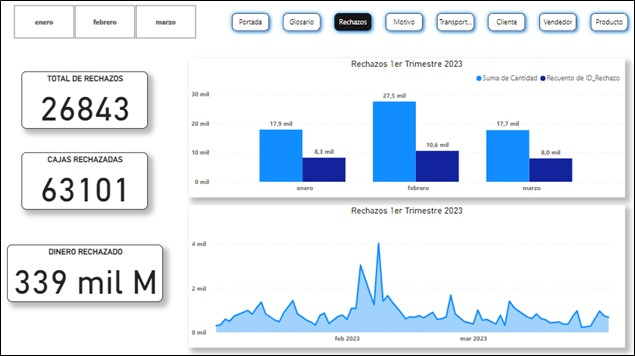

The dashboard page shown, as its layout file describes it:
{"tool":"powerbi","page":{"name":"Rechazos","canvas":[1280,720],"ordinal":2},"visuals":[{"type":"card","title":"TOTAL DE RECHAZOS","fields":{"Values":["CountNonNull(Rechazos.ID_Rechazo)"]},"box":[60,158.8,249.3,113.4],"z":0},{"type":"lineClusteredColumnComboChart","title":"Rechazos 1er Trimestre 2023","fields":{"Category":["Tabla Calendario.Fecha.Variación.Jerarquía de fechas.Mes"],"Y":["Sum(Rechazos.Cantidad)","CountNonNull(Rechazos.ID_Rechazo)"]},"box":[390.2,132.5,859.7,273.6],"z":1000},{"type":"card","title":"CAJAS RECHAZADAS","fields":{"Values":["Sum(Rechazos.Cantidad)"]},"box":[60,318.5,249.3,113.4],"z":2000},{"type":"card","title":"DINERO RECHAZADO","fields":{"Values":["Sum(Rechazos.Valor)"]},"box":[31.6,500.5,307.5,113.4],"z":3000},{"type":"pageNavigator","box":[465.1,34.6,800.6,53.3],"z":4000},{"type":"slicer","fields":{"Values":["Tabla Calendario.Mes"]},"box":[18.7,21.6,407.5,79.2],"z":5000},{"type":"stackedAreaChart","title":"Rechazos 1er Trimestre 2023","fields":{"Y":["Sum(Rechazos.Cantidad)"],"Category":["Rechazos.Fecha"]},"box":[390.2,421.9,859.7,280.8],"z":6000}]}

Visuals, with their boxes in screenshot pixels (x1, y1, x2, y2), scaled from the page's 1280x720 canvas onto the 635x356 screenshot:
"TOTAL DE RECHAZOS" card: [30,79,153,135]
"Rechazos 1er Trimestre 2023" lineClusteredColumnComboChart: [194,66,620,201]
"CAJAS RECHAZADAS" card: [30,157,153,214]
"DINERO RECHAZADO" card: [16,247,168,304]
pageNavigator: [231,17,628,43]
slicer - Tabla Calendario.Mes: [9,11,211,50]
"Rechazos 1er Trimestre 2023" stackedAreaChart: [194,209,620,347]
